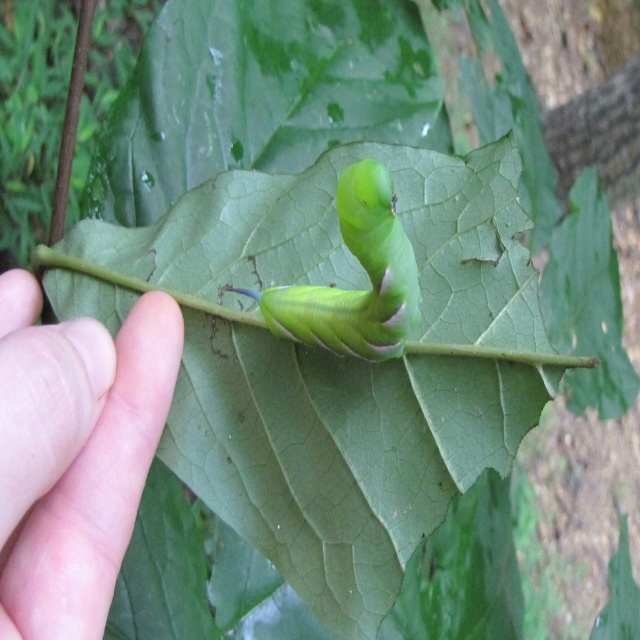Caterpillar: (223, 154, 425, 363)
